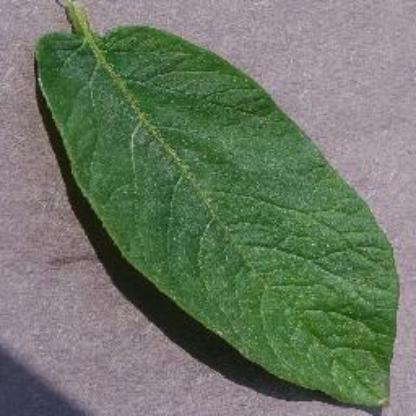Healthy-plant: (34, 1, 400, 409)
